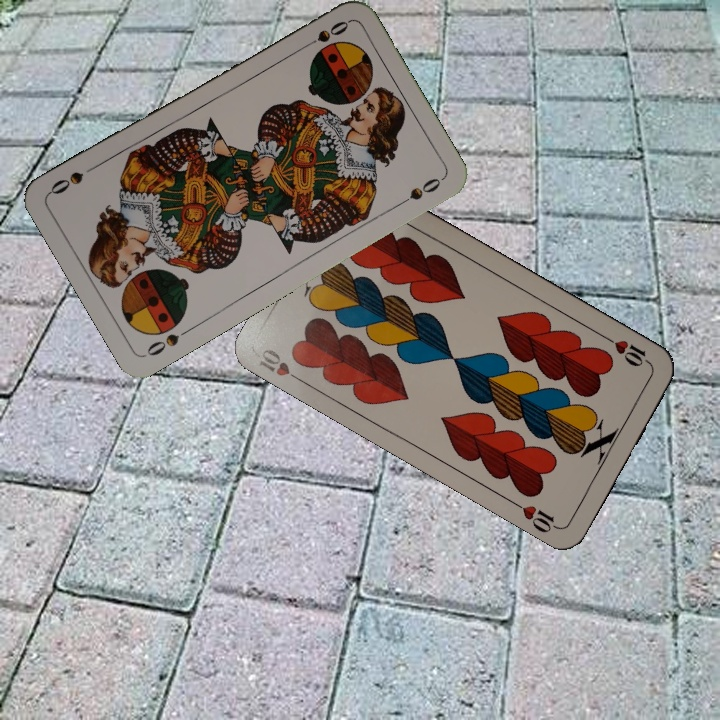H10: (254, 343, 308, 388), (600, 332, 654, 370)
SO: (297, 16, 352, 52), (142, 323, 195, 359)
